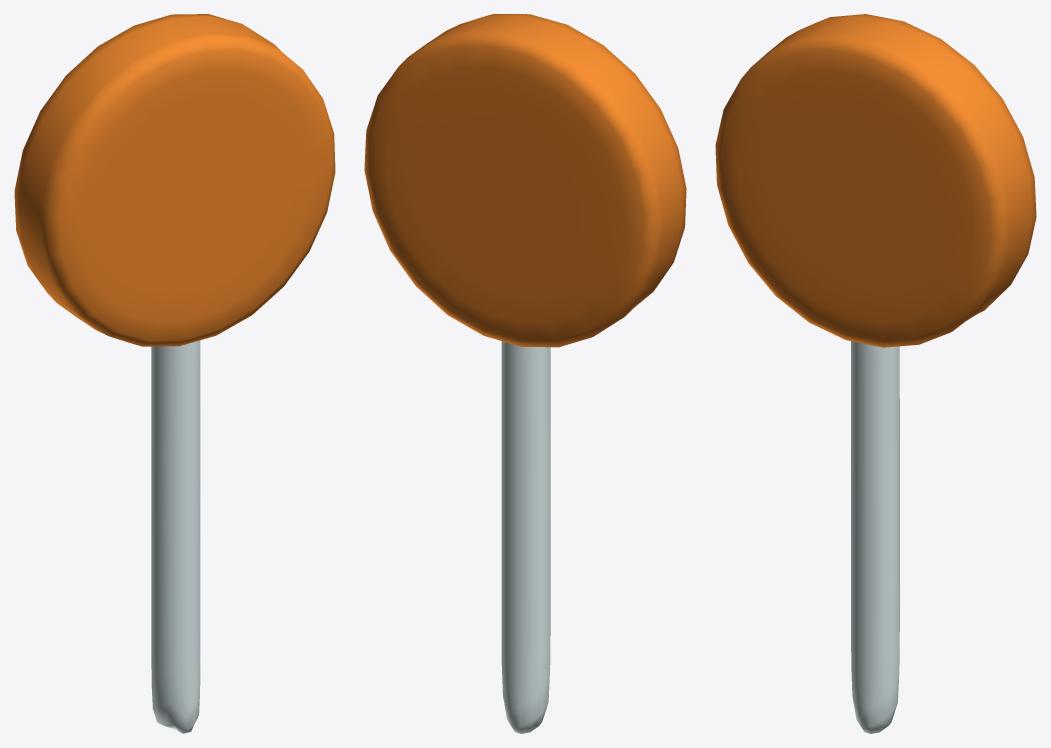
The model's file is Lollipop_B_02.fbx.
The picture shows the model from 3 angles, left to right: view 1: azimuth 30°, elevation 25°; view 2: azimuth 150°, elevation 25°; view 3: azimuth 330°, elevation 25°; orthographic projection.
Visible parts, largest first — view 1: Lollipop_B_02_LOD0; view 2: Lollipop_B_02_LOD0; view 3: Lollipop_B_02_LOD0.
Boxes of the visible parts, bbox=[...] form: Lollipop_B_02_LOD0: bbox=[14, 14, 335, 733]; Lollipop_B_02_LOD0: bbox=[364, 14, 686, 733]; Lollipop_B_02_LOD0: bbox=[715, 14, 1036, 733].
Size of what is drawn, in the model's own units: 503 by 1154 by 124.
